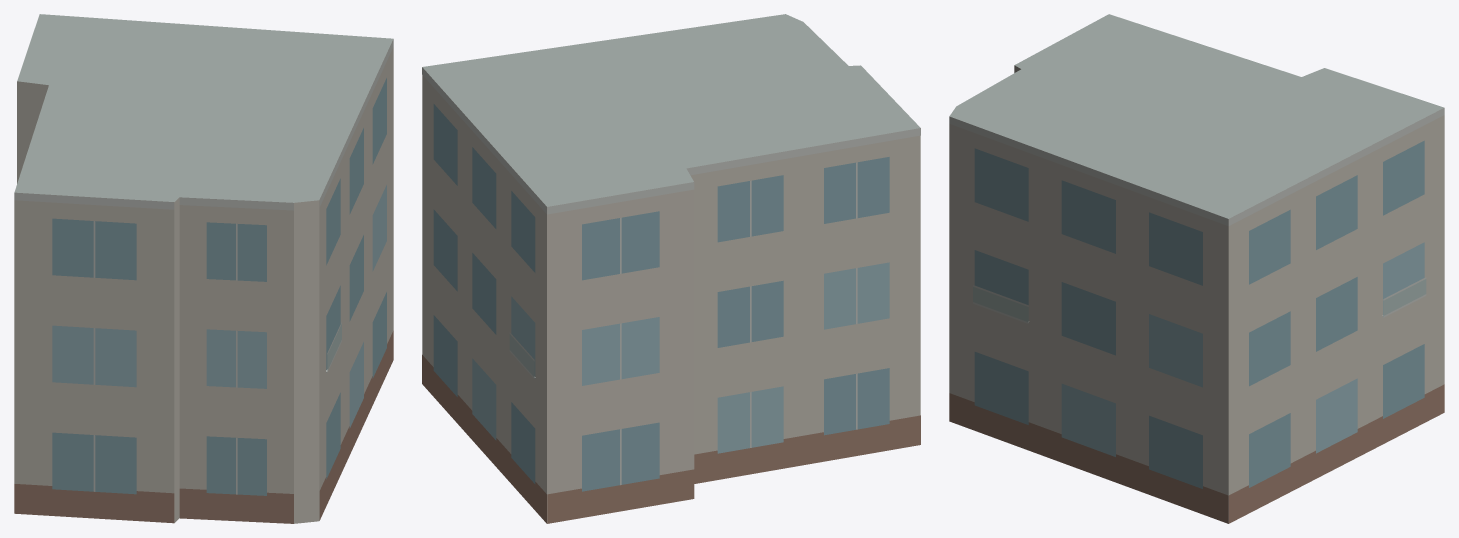
File: survey-upis-32963338.glb
3 views of the same model, side by side, from view 1: azimuth 30°, elevation 25°; view 2: azimuth 150°, elevation 25°; view 3: azimuth 270°, elevation 25° (orthographic). The views are drawn at different scales.
Parts seen in each view (by area): view 1: survey-upis-32963338.tmp; view 2: survey-upis-32963338.tmp; view 3: survey-upis-32963338.tmp.
Boxes of the visible parts, <box> form: survey-upis-32963338.tmp: <box>14,14,393,523</box>; survey-upis-32963338.tmp: <box>422,14,920,523</box>; survey-upis-32963338.tmp: <box>949,14,1444,523</box>.
Size of the model in its own units: 14.71 by 10.2 by 15.02.
